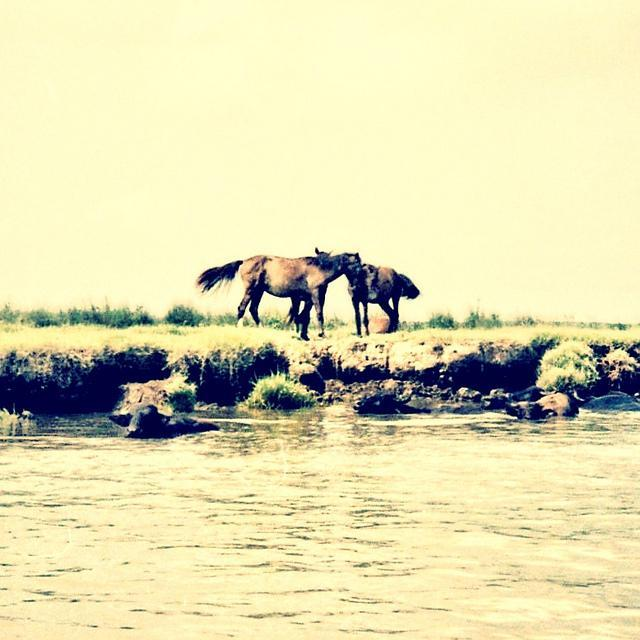cow: (125, 405, 219, 437), (507, 389, 578, 419), (353, 391, 432, 415)
